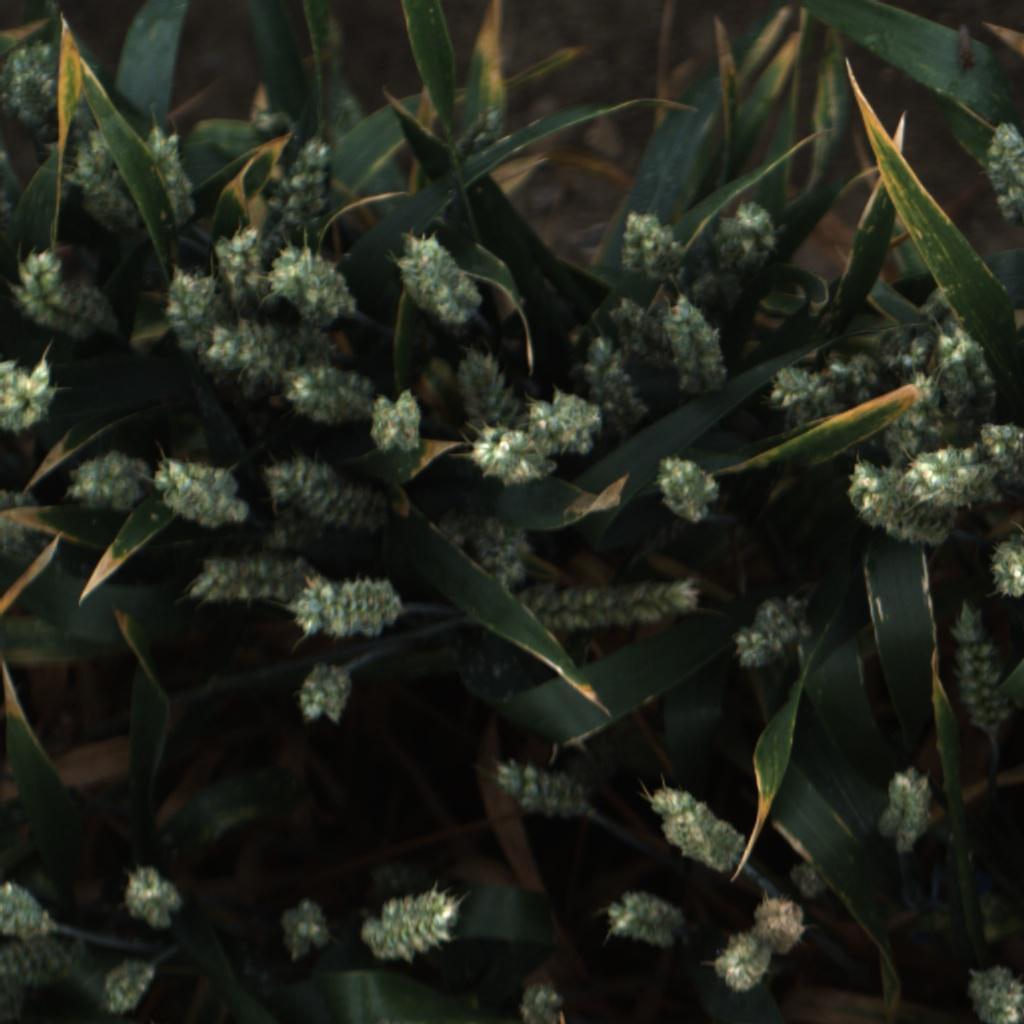0-0: (938, 593, 1021, 737), (838, 455, 959, 553), (12, 247, 120, 348), (641, 775, 750, 875), (260, 452, 394, 530), (532, 576, 702, 637), (391, 223, 486, 332), (65, 144, 146, 251), (876, 370, 962, 465), (148, 453, 252, 531), (293, 572, 405, 643), (658, 293, 736, 394), (193, 551, 320, 613), (359, 887, 458, 966), (267, 240, 358, 324), (727, 591, 817, 675), (205, 318, 305, 388), (270, 133, 336, 236), (579, 332, 646, 433), (493, 756, 594, 823), (902, 445, 1003, 512), (876, 760, 943, 860), (287, 366, 388, 432), (930, 326, 1003, 416), (669, 228, 750, 303), (649, 451, 727, 527), (1, 37, 59, 137), (598, 891, 690, 954), (0, 933, 93, 995), (616, 203, 688, 282), (757, 360, 834, 433), (469, 424, 555, 488), (454, 337, 518, 423), (979, 116, 1024, 236), (149, 126, 202, 227), (118, 864, 191, 937), (521, 391, 601, 457), (361, 387, 433, 460), (0, 868, 70, 943), (716, 196, 783, 272), (65, 447, 144, 511), (157, 261, 217, 345), (0, 482, 59, 565), (704, 930, 776, 998), (878, 325, 946, 397), (819, 348, 887, 418), (291, 658, 357, 730), (442, 101, 508, 172), (209, 229, 268, 307), (471, 521, 534, 594), (0, 355, 59, 430), (272, 895, 335, 965), (745, 891, 818, 949), (974, 416, 1024, 499), (97, 954, 159, 1017), (606, 292, 662, 360), (506, 975, 573, 1024), (979, 532, 1024, 602), (255, 509, 312, 560), (285, 324, 341, 374), (434, 504, 483, 556), (785, 853, 830, 901)
